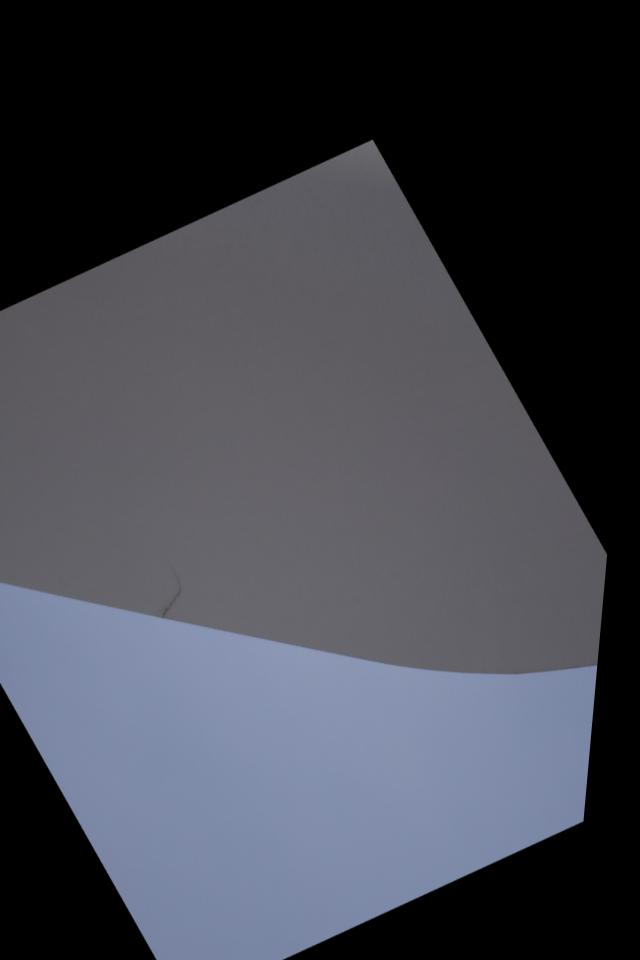damage: (153, 553, 208, 615)
